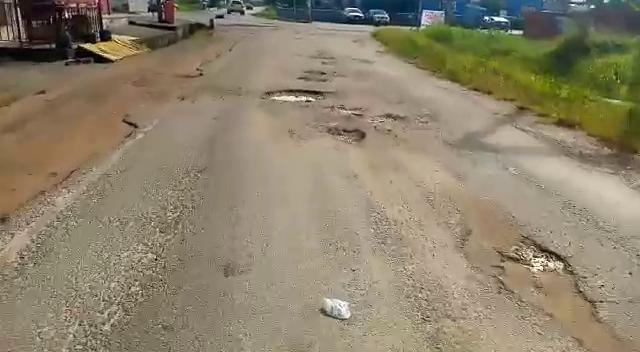pothole: (499, 237, 598, 319), (261, 89, 329, 104), (319, 124, 367, 141), (370, 112, 406, 133), (324, 105, 367, 120)
